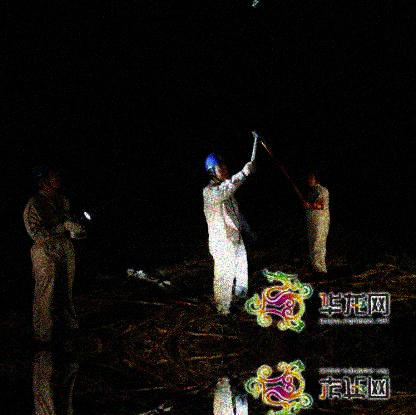helmet: (26, 162, 65, 195), (202, 152, 230, 185), (304, 167, 321, 187)
